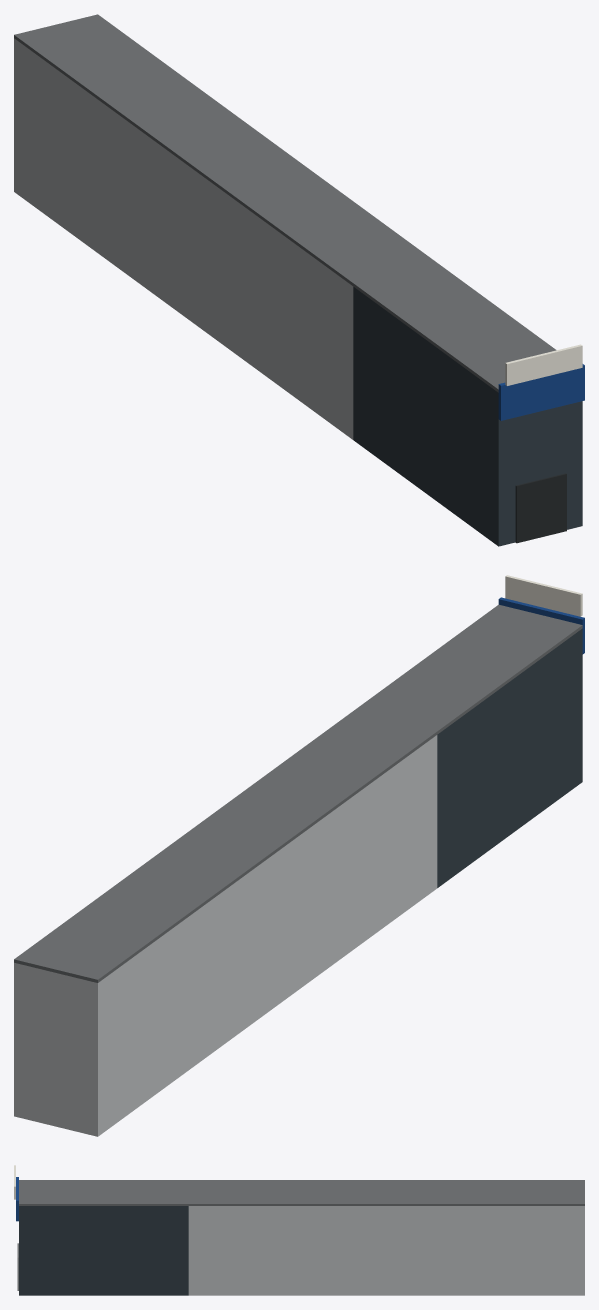
Rendered from showroom-door.glb.
3 views of the same model, one above another, from view 1: azimuth 30°, elevation 25°; view 2: azimuth 150°, elevation 25°; view 3: azimuth 270°, elevation 25° (orthographic). The views are drawn at different scales.
Visible parts, largest first — view 1: showroom-door; view 2: showroom-door; view 3: showroom-door.
Boxes of the visible parts, box(x1,y1,x2,y2) form: showroom-door: box(14, 14, 584, 546); showroom-door: box(14, 575, 584, 1136); showroom-door: box(14, 1165, 584, 1295).
Bounding box in the file's own units: 4 × 8.4 × 40.35.
